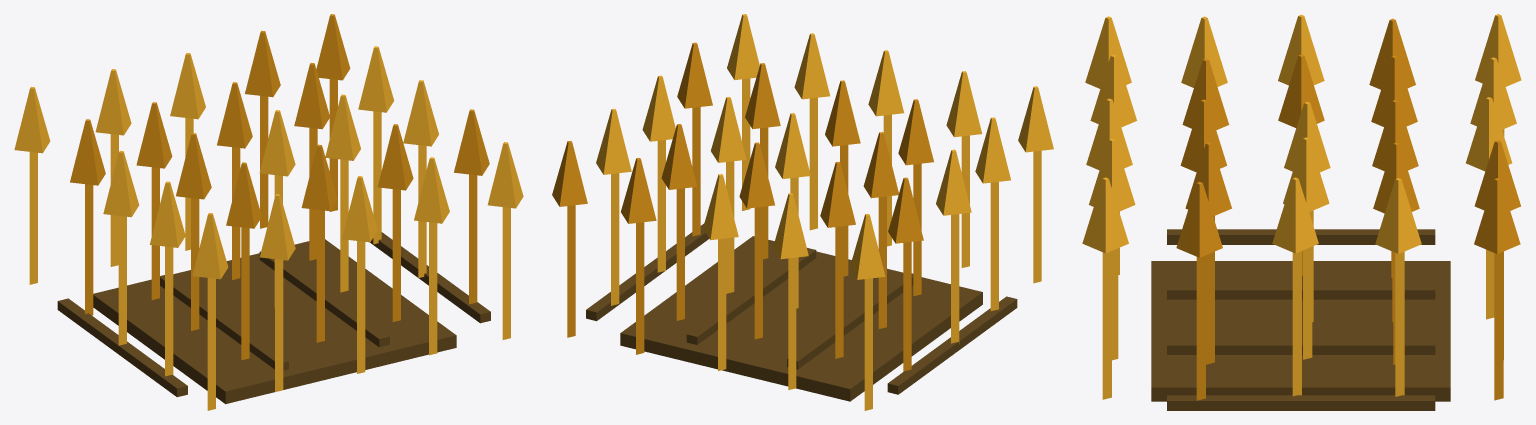
File: grainfield.glb
3 renders of one model, left to right at view 1: azimuth 30°, elevation 25°; view 2: azimuth 150°, elevation 25°; view 3: azimuth 270°, elevation 25°, orthographic. The views are drawn at different scales.
Visible parts, largest first — view 1: Grain head.005, Furrow.003, Grain head.003; view 2: Grain head.005, Furrow.003, Grain head.003; view 3: Furrow.003, Grain head.005, Grain head.003.
Boxes of the visible parts, x1,y1,x2,y2 form: Grain head.005: (14,46,523,410); Furrow.003: (57,232,490,404); Grain head.003: (70,14,489,360); Grain head.005: (596,14,1053,410); Furrow.003: (586,223,1017,401); Grain head.003: (552,42,933,371); Furrow.003: (1151,229,1450,410); Grain head.005: (1082,14,1521,399); Grain head.003: (1176,18,1520,400).
Size of the model in its own units: 1.42 by 0.845 by 1.41.
